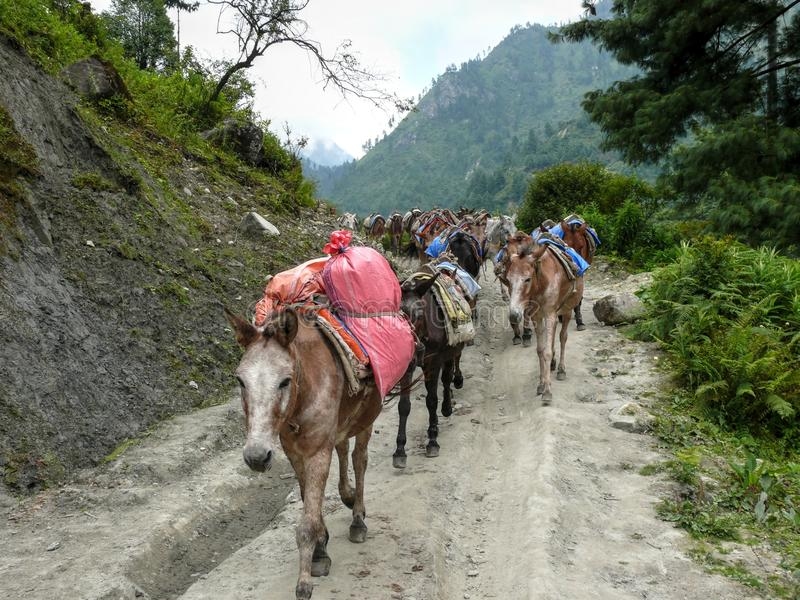equine: (222, 236, 406, 599), (493, 228, 603, 416), (390, 251, 482, 474), (534, 204, 612, 353), (477, 211, 523, 261), (335, 211, 364, 238)
